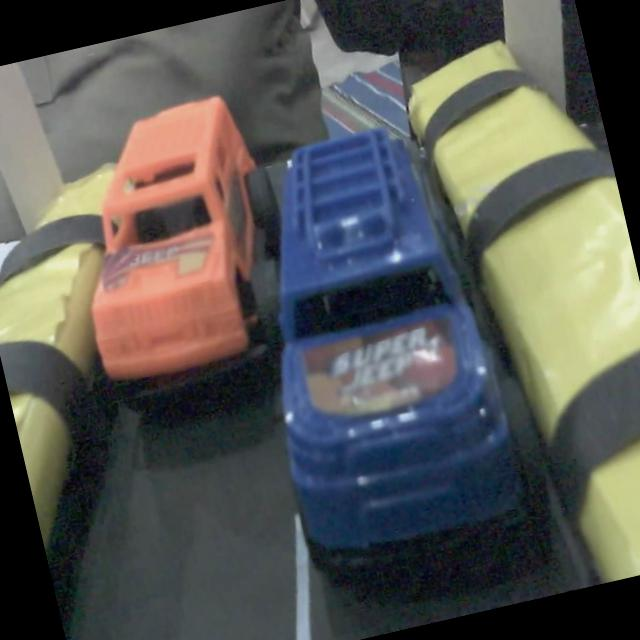TwoCar: (223, 117, 532, 566), (32, 58, 308, 420)
